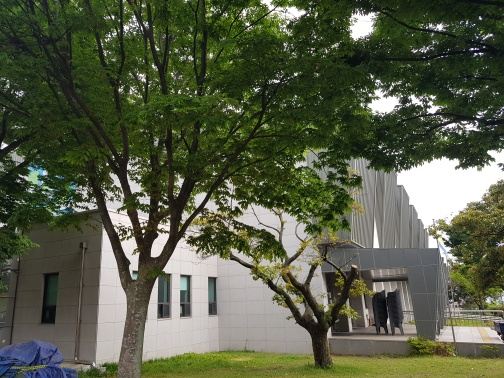Gym: (30, 169, 498, 356), (316, 232, 459, 348), (341, 155, 432, 256)
